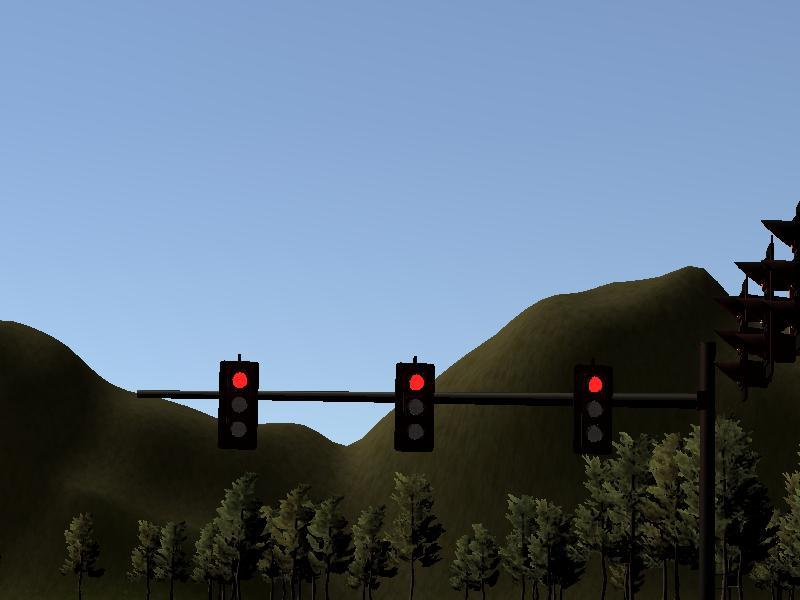Red: (218, 360, 258, 445), (397, 364, 434, 448), (581, 366, 617, 449)
